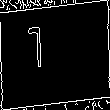L_S: (47, 29, 63, 81)
